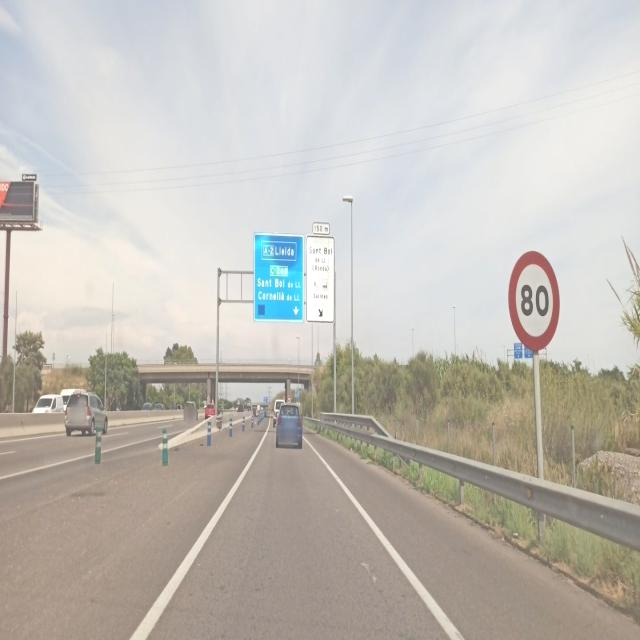car: (64, 392, 109, 436), (275, 402, 303, 449), (32, 393, 64, 414), (273, 404, 282, 428), (143, 400, 152, 410)
